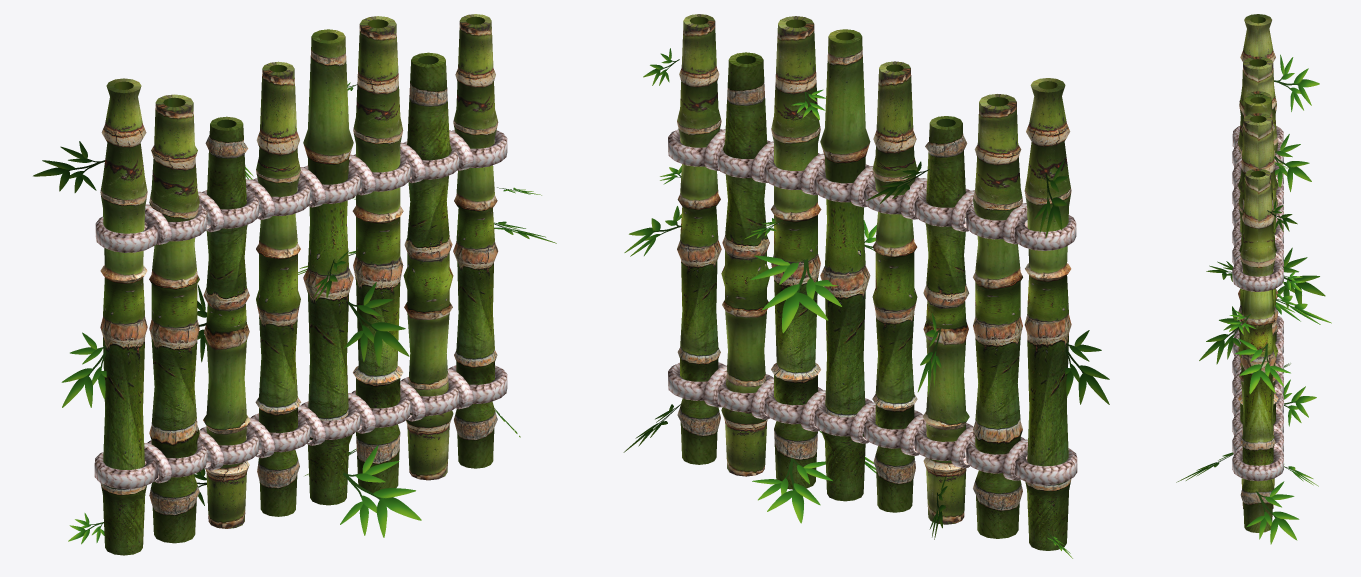
Rendered from BambooFence.fbx.
3 views of the same model, side by side, from view 1: azimuth 30°, elevation 25°; view 2: azimuth 150°, elevation 25°; view 3: azimuth 270°, elevation 25° (orthographic). The views are drawn at different scales.
Visible parts, largest first — view 1: Bamboo, Leaves; view 2: Bamboo, Leaves; view 3: Bamboo, Leaves.
Part boxes in pixels (<box>): Bamboo: <box>94,14,507,555</box>; Leaves: <box>33,82,556,544</box>; Bamboo: <box>668,14,1077,550</box>; Leaves: <box>623,48,1109,558</box>; Bamboo: <box>1232,14,1283,532</box>; Leaves: <box>1176,54,1331,544</box>.
Size of the model in its own units: 168 by 150 by 62.78.
Materials: 2 (2 with a texture image).
